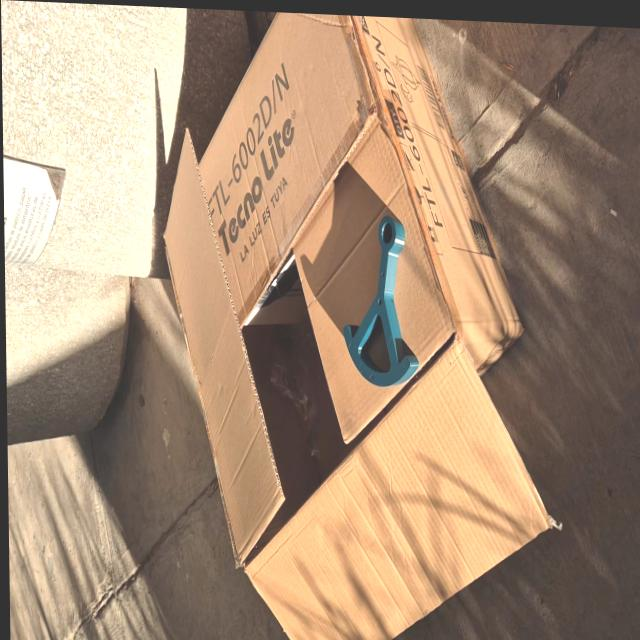haptic: (340, 213, 420, 391)
